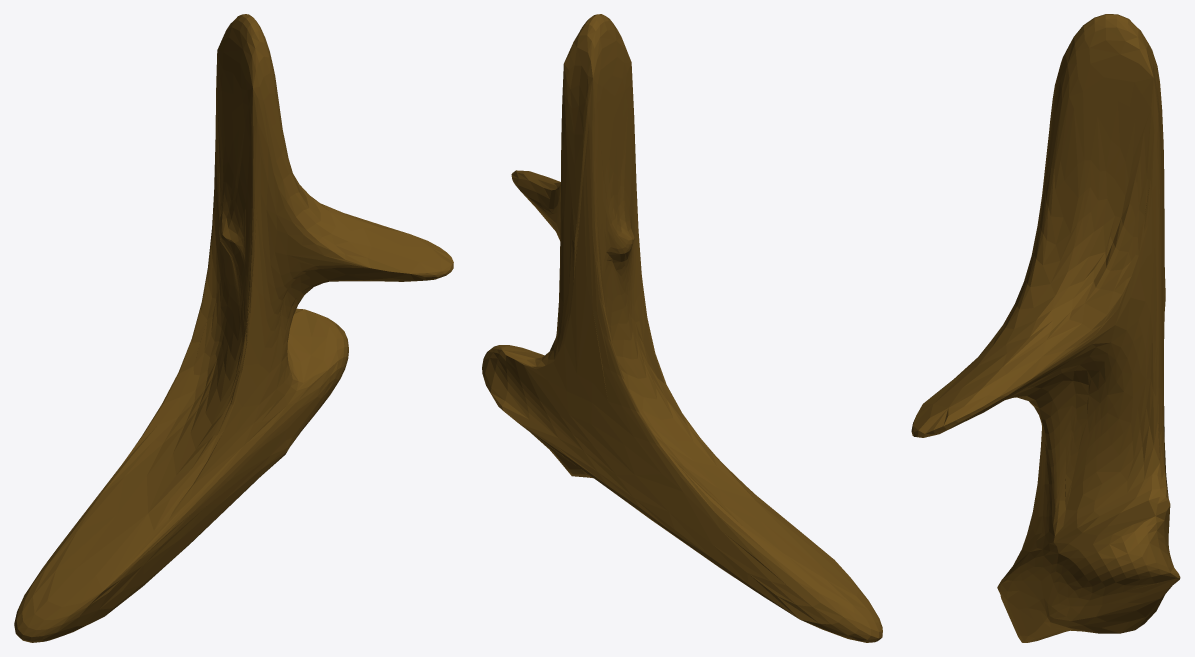
The picture shows the model from 3 angles, left to right: view 1: azimuth 30°, elevation 25°; view 2: azimuth 150°, elevation 25°; view 3: azimuth 270°, elevation 25°; orthographic projection. The views are drawn at different scales.
Parts seen in each view (by area): view 1: 374_Cube.1525; view 2: 374_Cube.1525; view 3: 374_Cube.1525.
Part boxes in pixels (bbox=[...]): 374_Cube.1525: bbox=[14, 14, 453, 642]; 374_Cube.1525: bbox=[482, 14, 882, 642]; 374_Cube.1525: bbox=[911, 14, 1180, 642].
Size of the model in its own units: 10.8 by 14.55 by 4.61.
